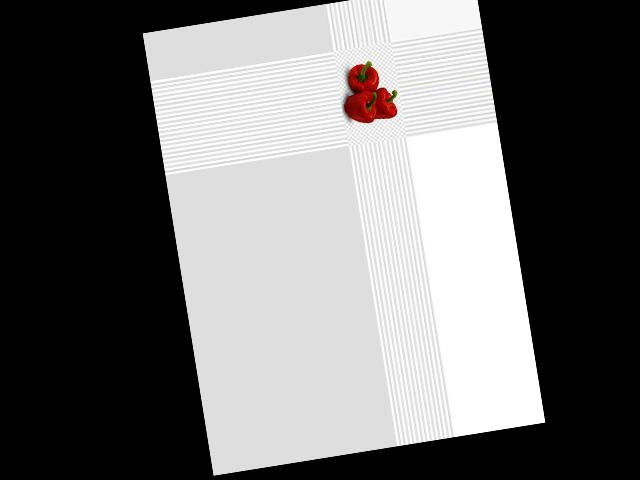bell_pepper: (342, 57, 385, 98)
